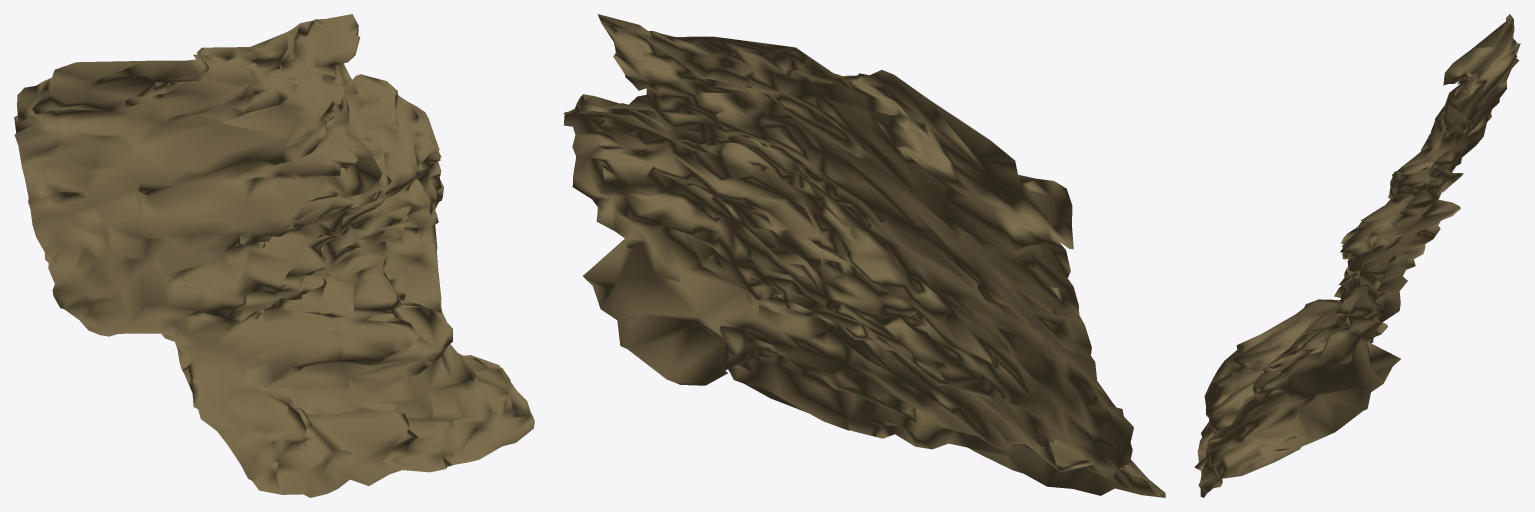
File: rock_face_02-lod1.glb
3 views of the same model, side by side, from view 1: azimuth 30°, elevation 25°; view 2: azimuth 150°, elevation 25°; view 3: azimuth 270°, elevation 25° (orthographic). The views are drawn at different scales.
Visible parts, largest first — view 1: rock_face_02; view 2: rock_face_02; view 3: rock_face_02.
Part boxes in pixels (box(x1,y1,x2,y2)): rock_face_02: box(14, 14, 534, 497); rock_face_02: box(563, 14, 1165, 497); rock_face_02: box(1194, 14, 1520, 497).
Size of the model in its own units: 2.71 by 2.47 by 2.13.
